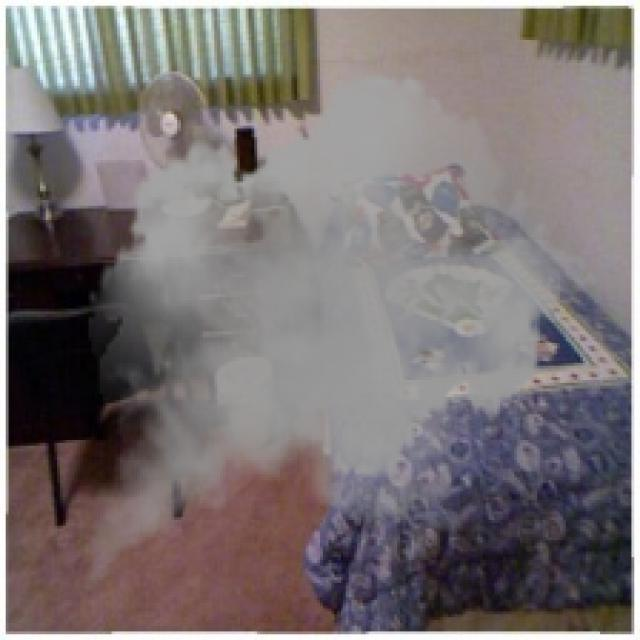Smoke: (69, 57, 600, 623)
